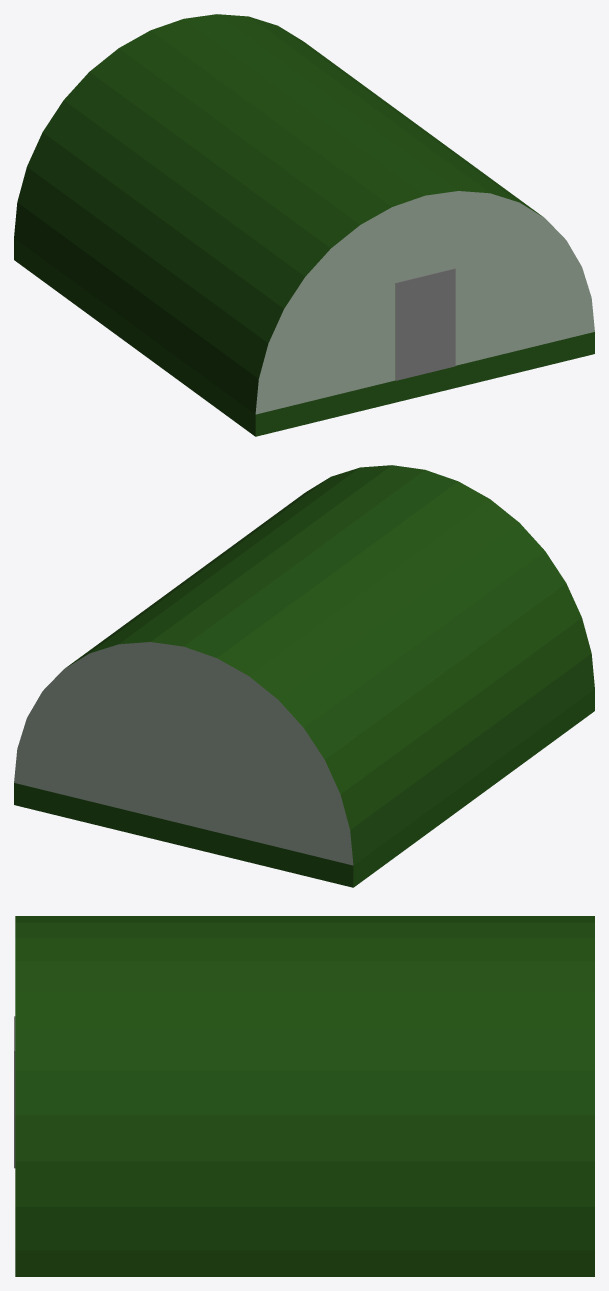
Rendered from barrack_1.CauKdVz2.glb.
3 renders of one model, top to bottom at view 1: azimuth 30°, elevation 25°; view 2: azimuth 150°, elevation 25°; view 3: azimuth 270°, elevation 25°, orthographic. The views are drawn at different scales.
Visible parts, largest first — view 1: base, Würfel; view 2: base; view 3: base.
Part boxes in pixels (x1=…): base: x1=14, y1=14, x2=594, y2=436; Würfel: x1=395, y1=268, x2=455, y2=380; base: x1=14, y1=465, x2=594, y2=887; base: x1=15, y1=916, x2=594, y2=1276.
Bounding box in the file's own units: 0.8 × 0.45 × 0.9882.
